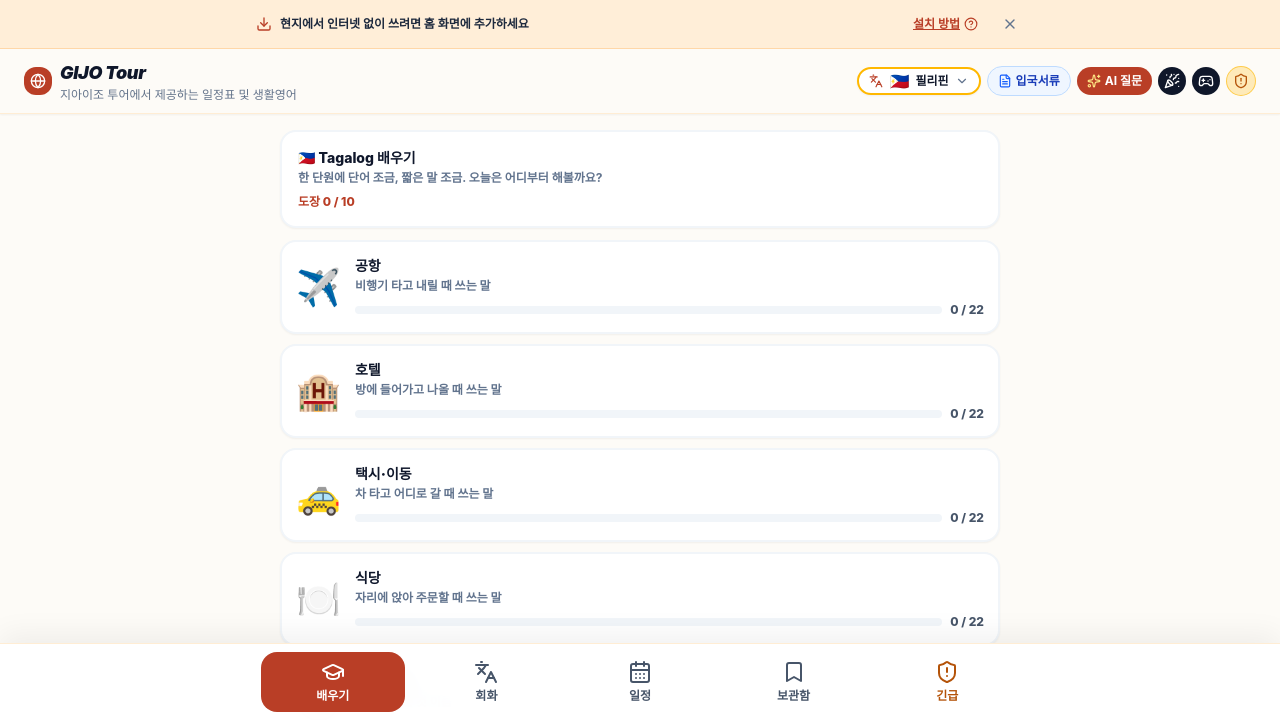
Test: 배우기 탭 › ★ 로 담으면 보관함 뱃지와 내 단어장에 나타난다
Click the button "🏨 호텔 방에 들어가고 나올 때 쓰는 말 0 / 22": (318, 391) [280, 344, 1000, 438]
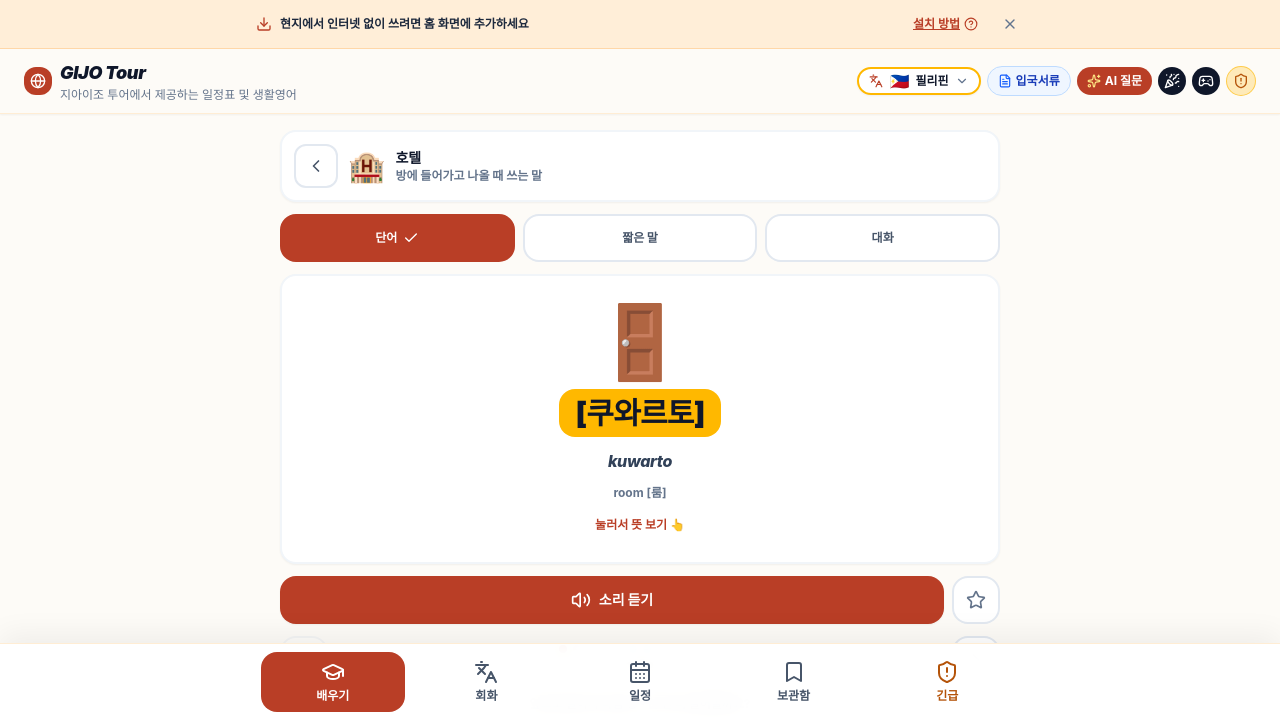
Click the button named "단어 저장": (976, 600) [952, 576, 1000, 624]
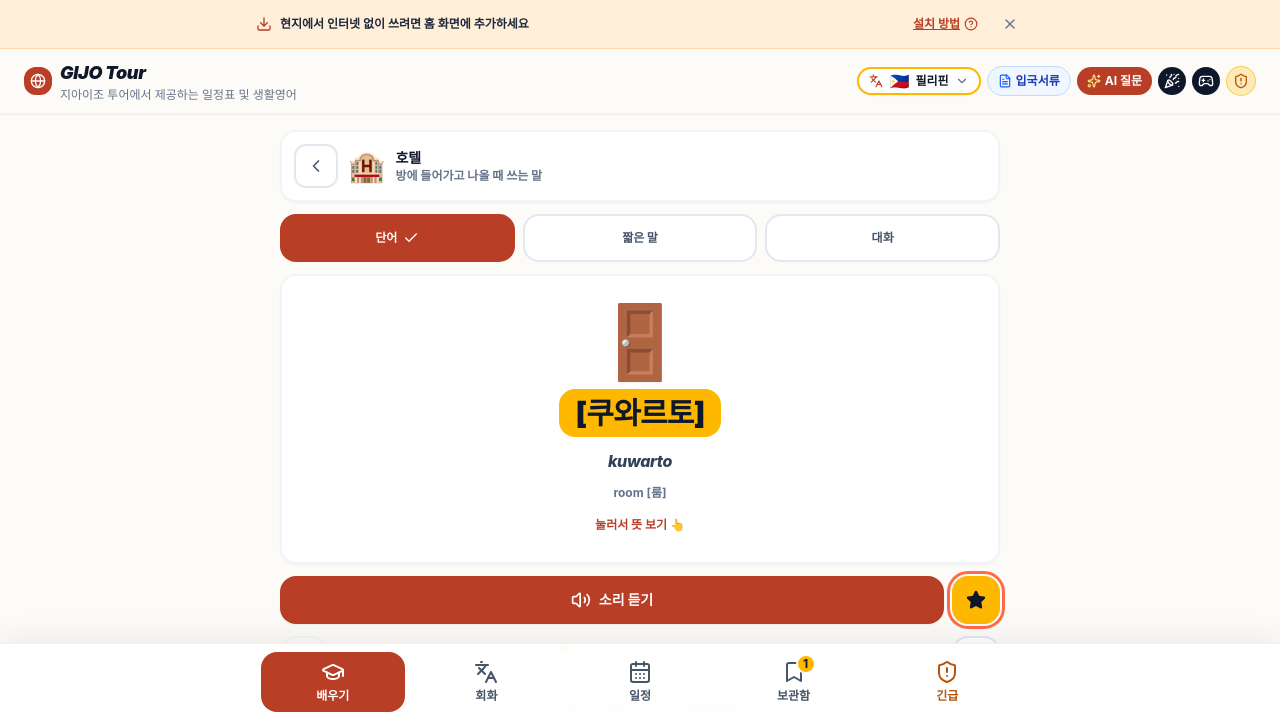
Check: the button named "단어 저장 취소" is shown, box [952, 576, 1000, 624]
Check: the text "1" is shown, box [796, 654, 816, 674]
Click the button "1 보관함": (794, 682) [722, 652, 866, 712]
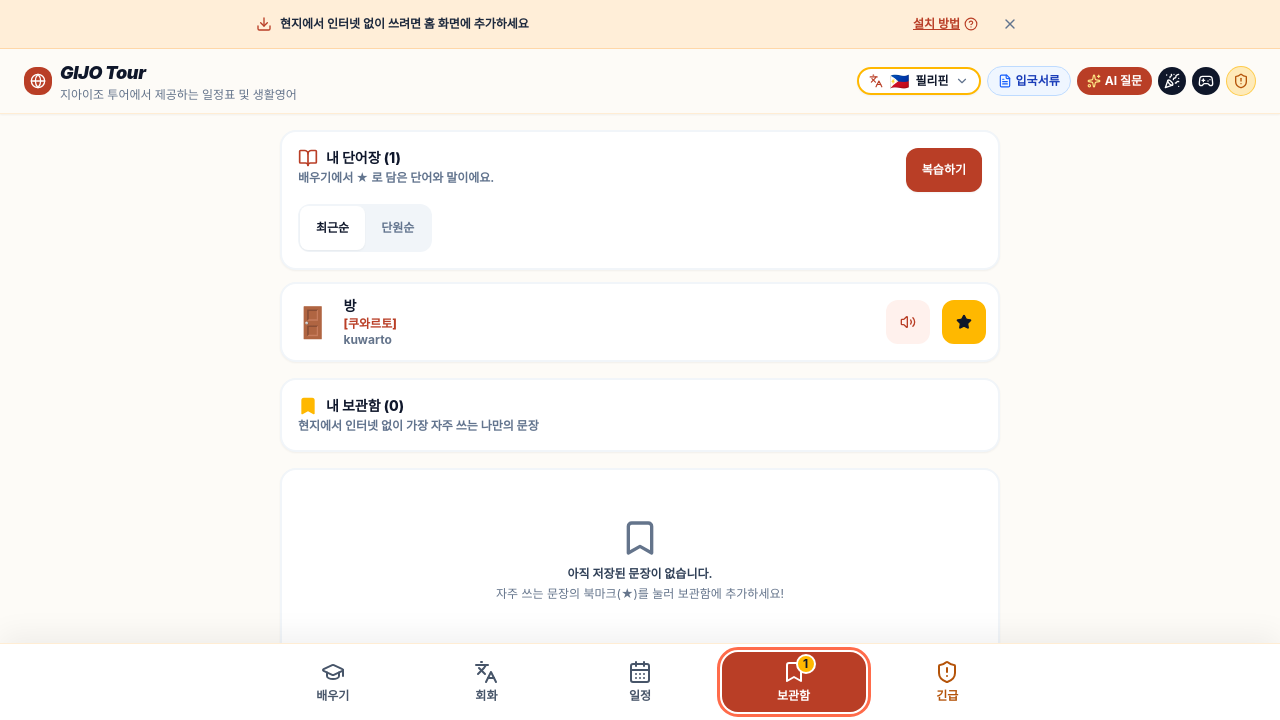
Check: the text "내 단어장 (1)" is shown, box [326, 148, 401, 168]
Check: the heading "아직 저장된 문장이 없습니다." is shown, box [568, 566, 712, 581]
